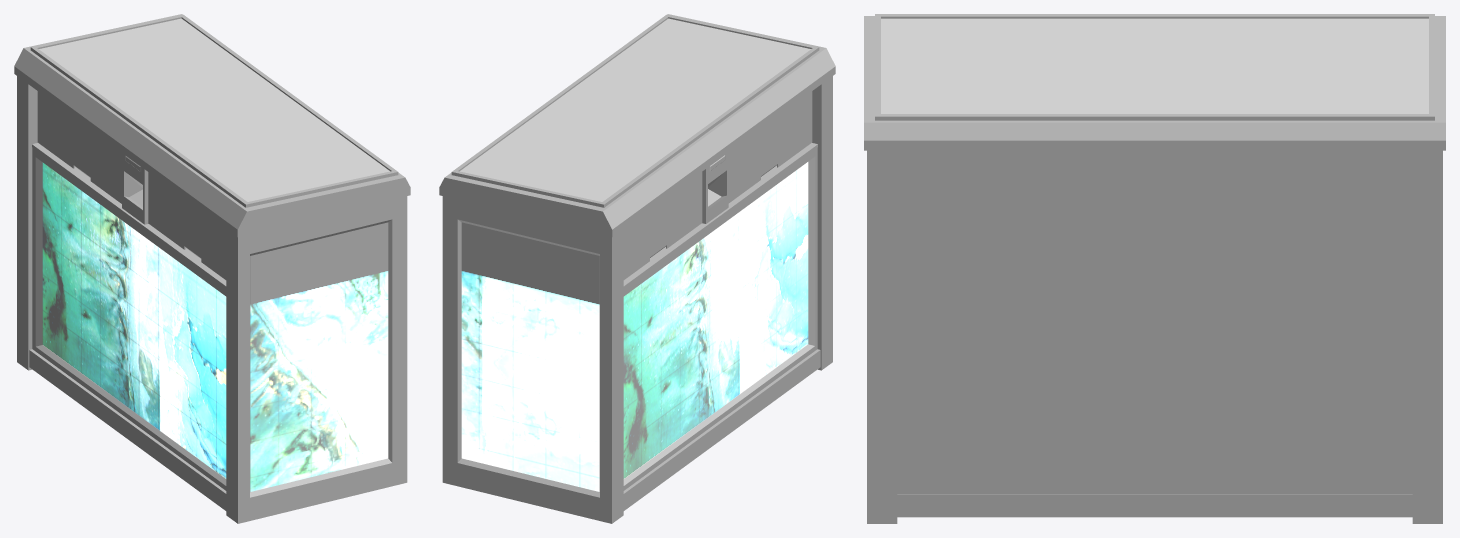
File: KB3D_NNY_TrashBin_A.fbx
The picture shows the model from 3 angles, left to right: view 1: azimuth 30°, elevation 25°; view 2: azimuth 150°, elevation 25°; view 3: azimuth 270°, elevation 25°; orthographic projection. The views are drawn at different scales.
Parts seen in each view (by area): view 1: KB3D_NNY_TrashBin_A_Main; view 2: KB3D_NNY_TrashBin_A_Main; view 3: KB3D_NNY_TrashBin_A_Main.
Boxes of the visible parts, bbox=[...] form: KB3D_NNY_TrashBin_A_Main: bbox=[14, 14, 410, 523]; KB3D_NNY_TrashBin_A_Main: bbox=[439, 14, 835, 523]; KB3D_NNY_TrashBin_A_Main: bbox=[864, 14, 1445, 523].
Size of the model in its own units: 77.55 by 135 by 174.
